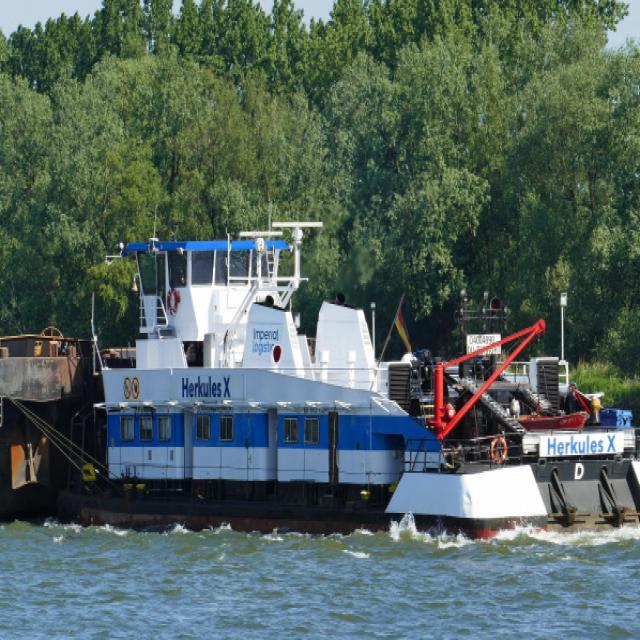tugboat: (50, 197, 640, 556)
